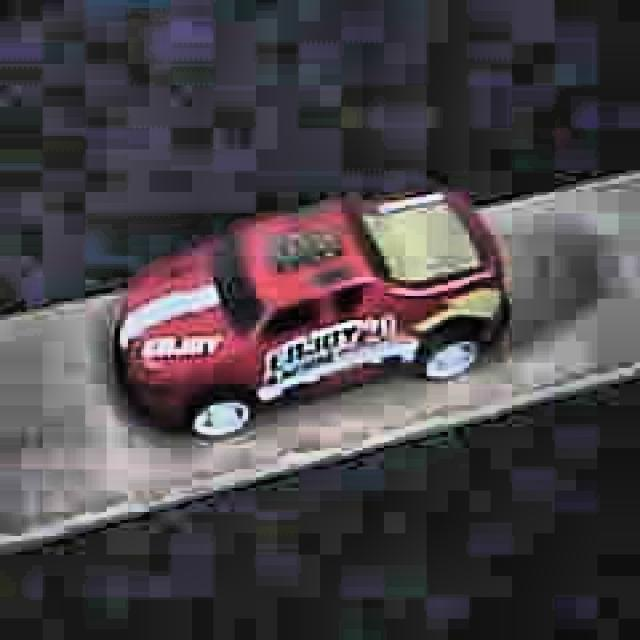car: (109, 182, 512, 440)
